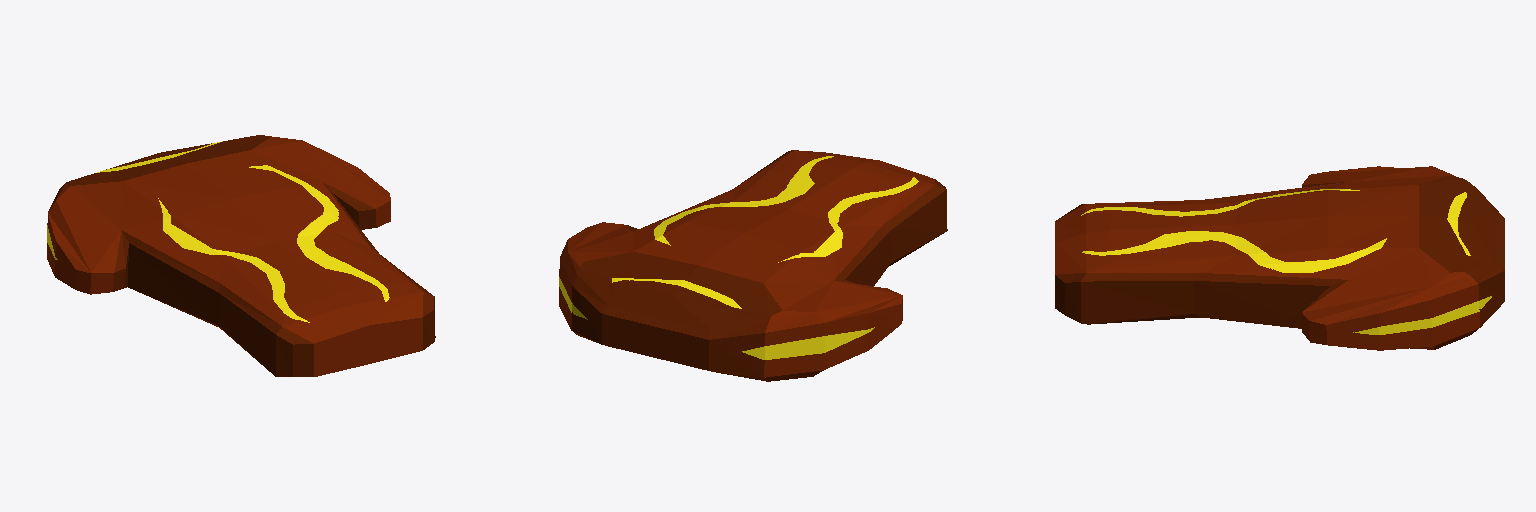
File: LightningTunic.obj
3 views of the same model, side by side, from view 1: azimuth 30°, elevation 25°; view 2: azimuth 150°, elevation 25°; view 3: azimuth 270°, elevation 25° (orthographic).
Parts seen in each view (by area): view 1: LightningTunic; view 2: LightningTunic; view 3: LightningTunic.
Part boxes in pixels (bbox=[...]): LightningTunic: bbox=[47, 135, 435, 376]; LightningTunic: bbox=[559, 150, 947, 381]; LightningTunic: bbox=[1055, 166, 1504, 350].
Bounding box in the file's own units: 0.7995 × 0.2011 × 0.9913.